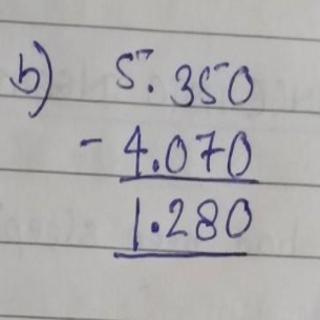.: (148, 157, 164, 173), (147, 218, 160, 235), (146, 82, 161, 95)
0: (226, 197, 254, 241), (227, 130, 251, 178), (229, 64, 255, 107), (163, 135, 187, 174)
1: (130, 198, 143, 246)
2: (165, 199, 188, 239)
3: (170, 63, 197, 108)
4: (125, 124, 148, 175)
5: (108, 48, 137, 91), (198, 62, 220, 105)
7: (196, 129, 220, 173)
8: (197, 198, 218, 240)
